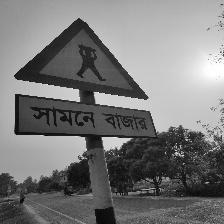Market-in-front: (13, 17, 156, 138)
